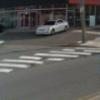cars: (36, 19, 70, 35)
